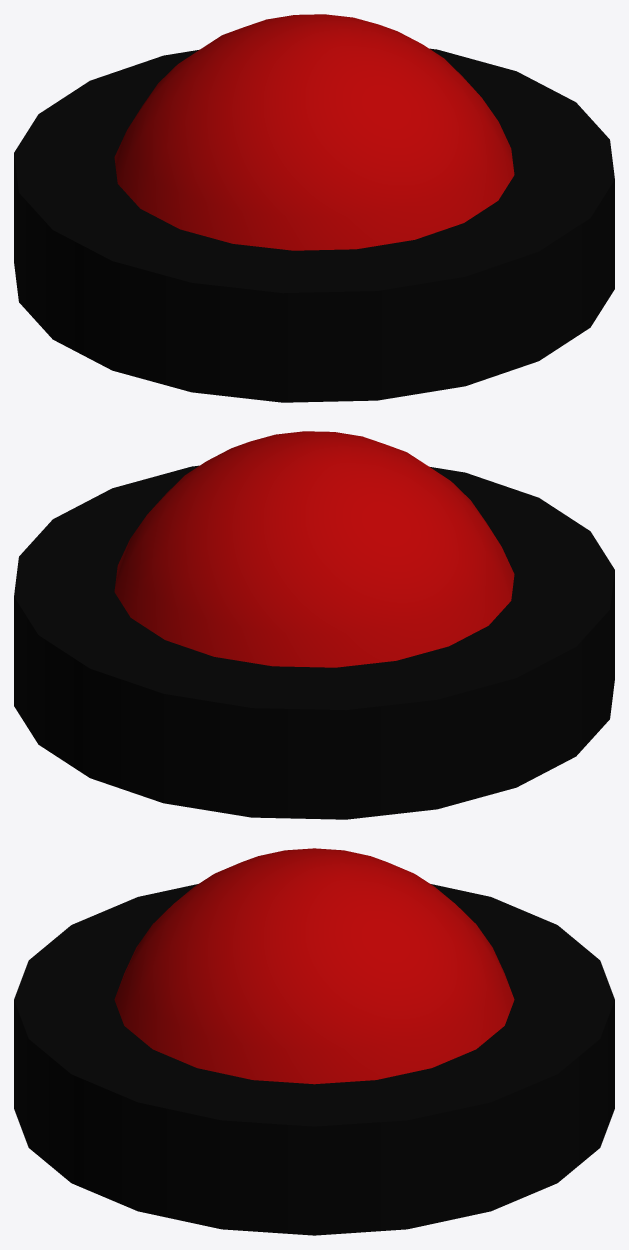
Rendered from prop_mine_justin.fbx.
The picture shows the model from 3 angles, top to bottom: view 1: azimuth 30°, elevation 25°; view 2: azimuth 150°, elevation 25°; view 3: azimuth 270°, elevation 25°; orthographic projection.
Parts seen in each view (by area): view 1: prop_mine_justin; view 2: prop_mine_justin; view 3: prop_mine_justin.
Part boxes in pixels (bbox=[...]): prop_mine_justin: bbox=[14, 14, 614, 402]; prop_mine_justin: bbox=[14, 431, 614, 819]; prop_mine_justin: bbox=[14, 848, 614, 1235].
Bounding box in the file's own units: 2 × 0.8837 × 2.
